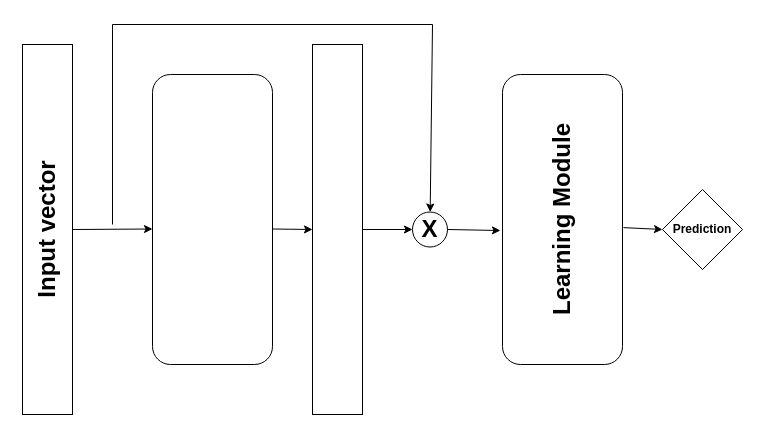
Some shapes in this 760 by 432 pixel diagram are drawn without their labels. Each missing label, with the centre of its shape:
Attention weight: [337,229]
Attenttion module: [212,219]
